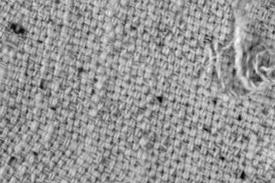snag: (209, 9, 274, 103)
